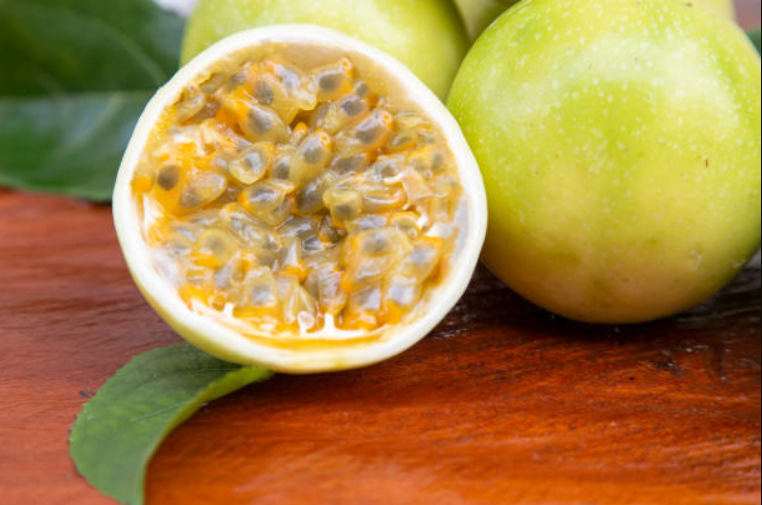maracuya: (440, 1, 762, 337)
